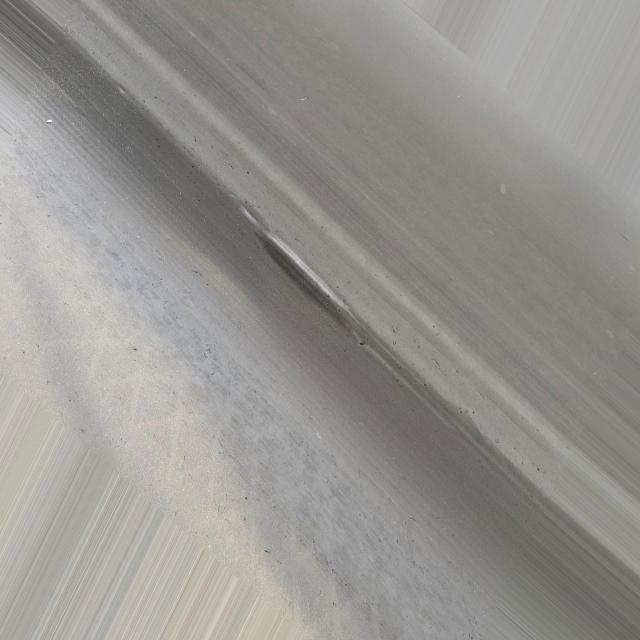Impact Damage: (238, 196, 394, 371)
